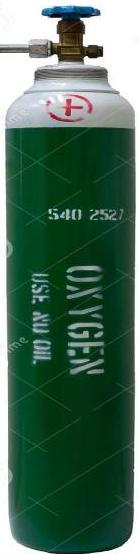cylinder: (1, 1, 139, 554)
